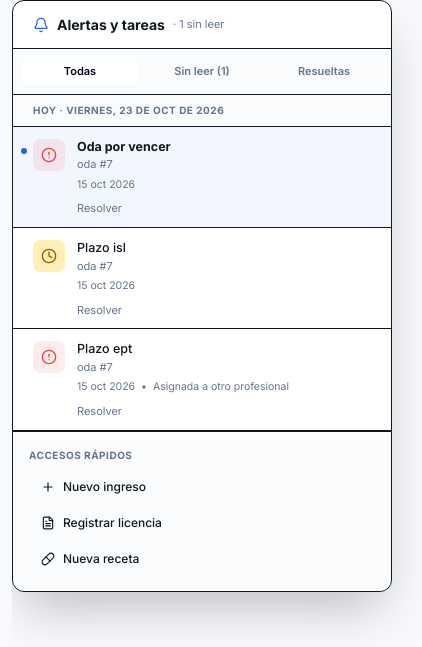
Test: AlertsPanel: sin leer y ventana flotante › destaca solo las pendientes para quien mira; las de otro profesional van rotuladas
Expected: the text "Oda por vencer" is shown, [77,138,171,154]
Expected: the number of elements named "Sin leer" is 1, [21,148,27,154]
Click the button "Sin leer (1)" at (202,71), box [143,57,261,86]
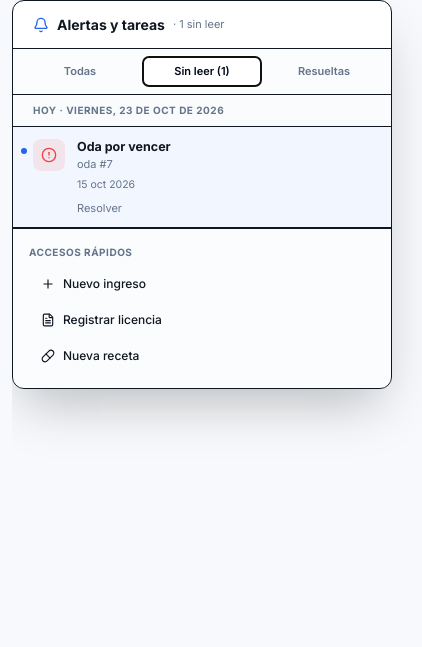
Expected: the text "Oda por vencer" is shown, [77,138,171,154]
Now the button "Plazo isl" is gone
Now the button "Plazo ept" is gone
